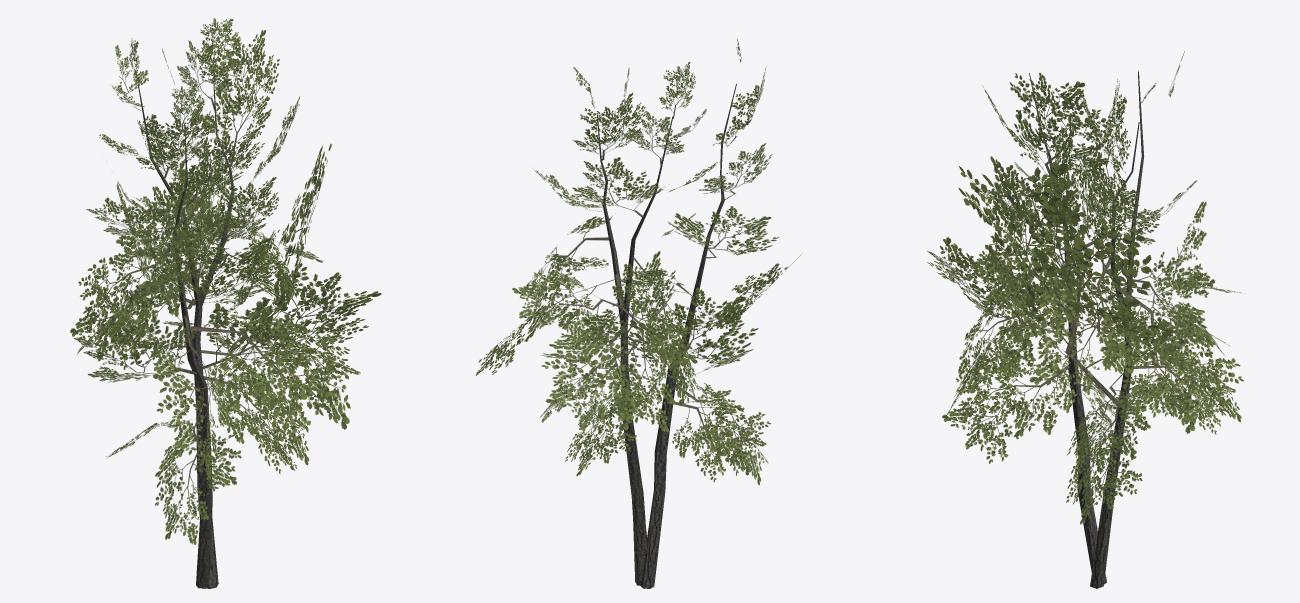
File: tree-09.glb
3 views of the same model, side by side, from view 1: azimuth 30°, elevation 25°; view 2: azimuth 150°, elevation 25°; view 3: azimuth 270°, elevation 25° (orthographic).
Parts seen in each view (by area): view 1: Tree-03-1; view 2: Tree-03-1; view 3: Tree-03-1.
Part boxes in pixels (box(x1,y1,x2,y2)): Tree-03-1: box(70, 18, 381, 588); Tree-03-1: box(475, 39, 801, 588); Tree-03-1: box(927, 51, 1244, 588).
Bounding box in the file's own units: 6 × 8.78 × 5.73.
3 materials, 3 textured.
